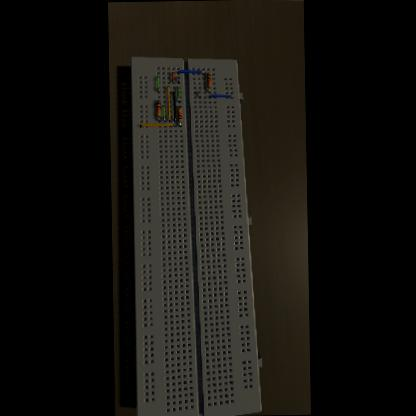breadboard: (128, 53, 260, 416)
resistor: (206, 73, 210, 87), (176, 108, 180, 122), (154, 102, 158, 116)
wire: (138, 122, 174, 127), (176, 70, 202, 75), (170, 91, 173, 122), (208, 94, 230, 98), (166, 86, 168, 122), (176, 85, 178, 102), (162, 104, 164, 121), (156, 76, 158, 92), (176, 76, 178, 83), (171, 72, 172, 83), (157, 116, 158, 122), (178, 122, 179, 127), (156, 100, 158, 102), (198, 90, 198, 98), (178, 106, 178, 107)
